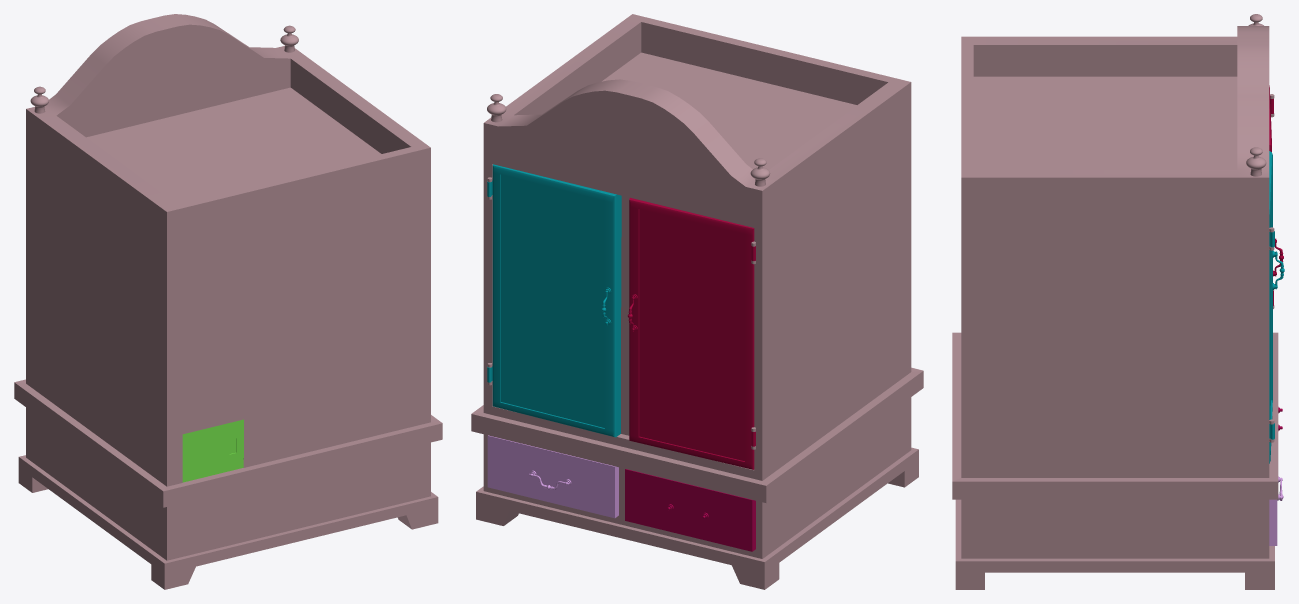
Rendered from armario_grande.fbx.
3 renders of one model, left to right at view 1: azimuth 30°, elevation 25°; view 2: azimuth 150°, elevation 25°; view 3: azimuth 270°, elevation 25°, orthographic. The views are drawn at different scales.
Visible parts, largest first — view 1: armariogrande1, tapa; view 2: armariogrande1, puerta1, puerta2, cajon1, cajon2; view 3: armariogrande1, puerta1, cajon1.
Part boxes in pixels (x1,y1,x2,y2): armariogrande1: (14,14,442,589); tapa: (182,419,243,482); armariogrande1: (471,14,923,589); puerta1: (487,164,621,437); puerta2: (627,197,755,469); cajon1: (487,435,618,518); cajon2: (625,469,755,551); armariogrande1: (952,14,1278,589); puerta1: (1269,151,1284,463); cajon1: (1269,476,1283,545).
Bounding box in the file's own units: 2.96 × 4.41 × 2.8.
